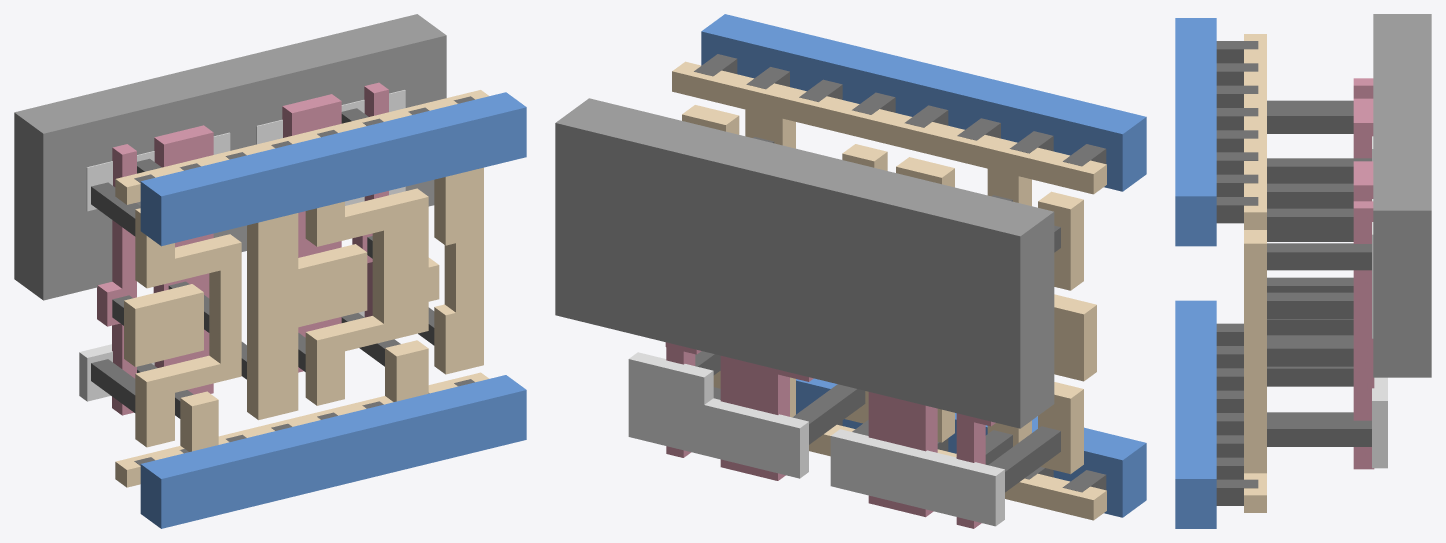
Rendered from sky130_fd_sc_hd__dlygate4sd3_1.gds.gltf.
3 renders of one model, left to right at view 1: azimuth 30°, elevation 25°; view 2: azimuth 150°, elevation 25°; view 3: azimuth 270°, elevation 25°, orthographic. The views are drawn at different scales.
Visible parts, largest first — view 1: sky130_fd_sc_hd__dlygate4sd3_1_li1, sky130_fd_sc_hd__dlygate4sd3_1_met1, sky130_fd_sc_hd__dlygate4sd3_1_nwell, sky130_fd_sc_hd__dlygate4sd3_1_poly, sky130_fd_sc_hd__dlygate4sd3_1_licon, sky130_fd_sc_hd__dlygate4sd3_1_diff, sky130_fd_sc_hd__dlygate4sd3_1_mcon; view 2: sky130_fd_sc_hd__dlygate4sd3_1_nwell, sky130_fd_sc_hd__dlygate4sd3_1_li1, sky130_fd_sc_hd__dlygate4sd3_1_met1, sky130_fd_sc_hd__dlygate4sd3_1_diff, sky130_fd_sc_hd__dlygate4sd3_1_poly, sky130_fd_sc_hd__dlygate4sd3_1_mcon, sky130_fd_sc_hd__dlygate4sd3_1_licon; view 3: sky130_fd_sc_hd__dlygate4sd3_1_licon, sky130_fd_sc_hd__dlygate4sd3_1_nwell, sky130_fd_sc_hd__dlygate4sd3_1_met1, sky130_fd_sc_hd__dlygate4sd3_1_mcon, sky130_fd_sc_hd__dlygate4sd3_1_li1, sky130_fd_sc_hd__dlygate4sd3_1_poly, sky130_fd_sc_hd__dlygate4sd3_1_diff.
Part boxes in pixels (x1,y1,x2,y2): sky130_fd_sc_hd__dlygate4sd3_1_li1: [115, 90, 489, 487]; sky130_fd_sc_hd__dlygate4sd3_1_met1: [140, 92, 526, 528]; sky130_fd_sc_hd__dlygate4sd3_1_nwell: [14, 14, 446, 300]; sky130_fd_sc_hd__dlygate4sd3_1_poly: [97, 82, 388, 415]; sky130_fd_sc_hd__dlygate4sd3_1_licon: [91, 108, 434, 418]; sky130_fd_sc_hd__dlygate4sd3_1_diff: [79, 90, 405, 401]; sky130_fd_sc_hd__dlygate4sd3_1_mcon: [134, 96, 474, 465]; sky130_fd_sc_hd__dlygate4sd3_1_nwell: [555, 98, 1054, 428]; sky130_fd_sc_hd__dlygate4sd3_1_li1: [672, 61, 1106, 520]; sky130_fd_sc_hd__dlygate4sd3_1_met1: [701, 14, 1146, 517]; sky130_fd_sc_hd__dlygate4sd3_1_diff: [628, 352, 1004, 526]; sky130_fd_sc_hd__dlygate4sd3_1_poly: [665, 342, 995, 528]; sky130_fd_sc_hd__dlygate4sd3_1_mcon: [694, 54, 1106, 492]; sky130_fd_sc_hd__dlygate4sd3_1_licon: [695, 137, 1060, 492]; sky130_fd_sc_hd__dlygate4sd3_1_licon: [1267, 100, 1371, 446]; sky130_fd_sc_hd__dlygate4sd3_1_nwell: [1373, 14, 1431, 377]; sky130_fd_sc_hd__dlygate4sd3_1_met1: [1175, 18, 1216, 528]; sky130_fd_sc_hd__dlygate4sd3_1_mcon: [1216, 41, 1258, 505]; sky130_fd_sc_hd__dlygate4sd3_1_li1: [1244, 34, 1266, 512]; sky130_fd_sc_hd__dlygate4sd3_1_poly: [1353, 78, 1374, 469]; sky130_fd_sc_hd__dlygate4sd3_1_diff: [1372, 136, 1387, 468].
Size of the model in its own units: 4.06 by 3.2 by 2.24.
